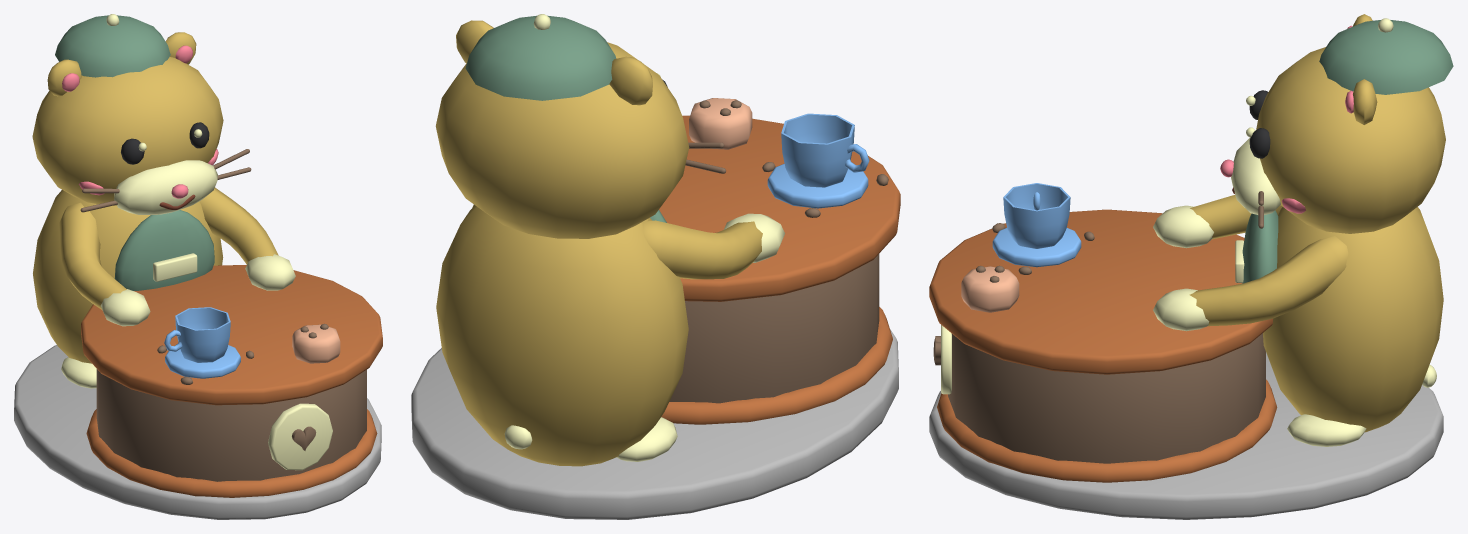
File: Hamster.fbx
3 views of the same model, side by side, from view 1: azimuth 30°, elevation 25°; view 2: azimuth 150°, elevation 25°; view 3: azimuth 270°, elevation 25° (orthographic). The views are drawn at different scales.
Visible parts, largest first — view 1: S_Hamster, M_Hamster, D_Hamster_1, D_Hamster_14, D_Hamster_2, D_Hamster_5, D_Hamster_11; view 2: S_Hamster, M_Hamster, D_Hamster_1; view 3: S_Hamster, M_Hamster, D_Hamster_1, D_Hamster_14, D_Hamster_2.
Part boxes in pixels (box(x1,y1,x2,y2)): S_Hamster: box(14, 57, 381, 519); M_Hamster: box(47, 15, 382, 405); D_Hamster_1: box(86, 409, 377, 497); D_Hamster_14: box(114, 160, 217, 214); D_Hamster_2: box(268, 403, 332, 470); D_Hamster_5: box(153, 253, 197, 281); D_Hamster_11: box(121, 138, 144, 164); S_Hamster: box(411, 42, 898, 519); M_Hamster: box(456, 15, 900, 461); D_Hamster_1: box(661, 307, 892, 424); S_Hamster: box(929, 47, 1445, 519); M_Hamster: box(929, 14, 1453, 446); D_Hamster_1: box(937, 379, 1277, 482); D_Hamster_14: box(1231, 138, 1280, 214); D_Hamster_2: box(941, 325, 951, 394).
Size of the model in its own units: 468 by 537 by 610.
